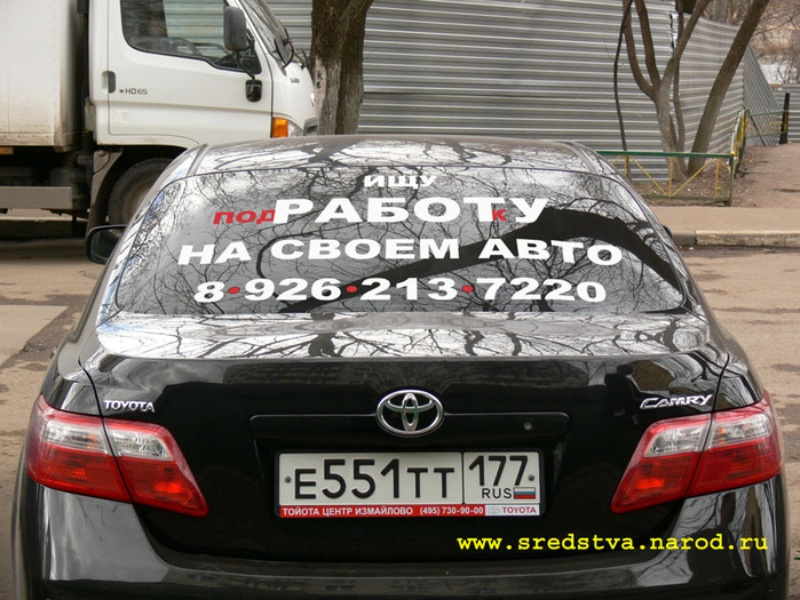car: (12, 134, 787, 600), (1, 1, 319, 230)
plate: (279, 453, 540, 504)
